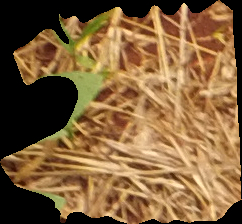soil: (3, 4, 240, 221)
